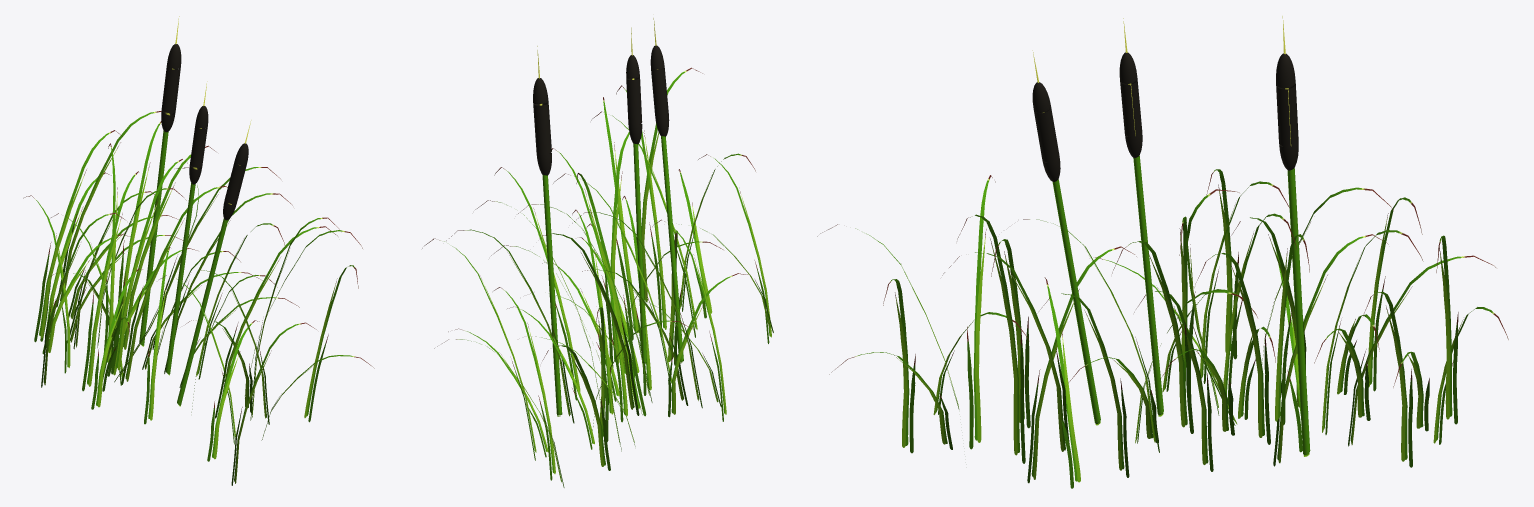
File: cattails.fbx
3 renders of one model, left to right at view 1: azimuth 30°, elevation 25°; view 2: azimuth 150°, elevation 25°; view 3: azimuth 270°, elevation 25°, orthographic. The views are drawn at different scales.
Visible parts, largest first — view 1: pPlane5, Cattail_, Cattail_1, Cattail_2; view 2: pPlane5, Cattail_, Cattail_2, Cattail_1; view 3: pPlane5, Cattail_, Cattail_1, Cattail_2.
Part boxes in pixels (left/top/right/bottom): pPlane5: left=23, top=111, right=374, bottom=485; Cattail_: left=139, top=16, right=181, bottom=346; Cattail_1: left=166, top=81, right=208, bottom=375; Cattail_2: left=177, top=120, right=251, bottom=406; pPlane5: left=422, top=67, right=773, bottom=487; Cattail_: left=533, top=46, right=562, bottom=416; Cattail_2: left=650, top=18, right=683, bottom=363; Cattail_1: left=626, top=27, right=646, bottom=364; pPlane5: left=817, top=169, right=1508, bottom=488; Cattail_: left=1276, top=16, right=1310, bottom=456; Cattail_1: left=1119, top=18, right=1163, bottom=416; Cattail_2: left=1032, top=50, right=1100, bottom=425.
Size of the model in its own units: 1.66 by 2.43 by 3.16.
